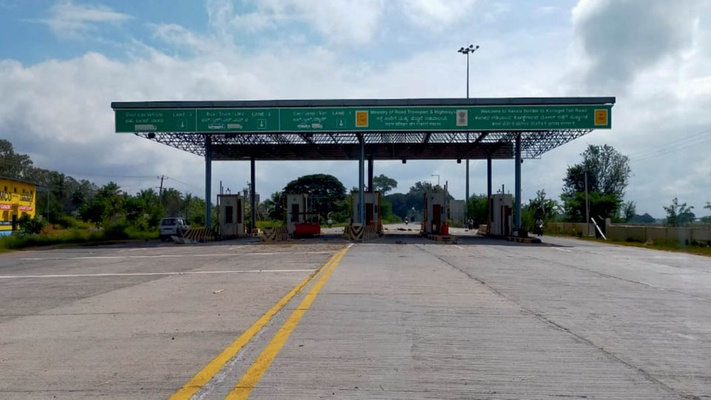toll plaza: (112, 95, 611, 154), (201, 164, 524, 240)
